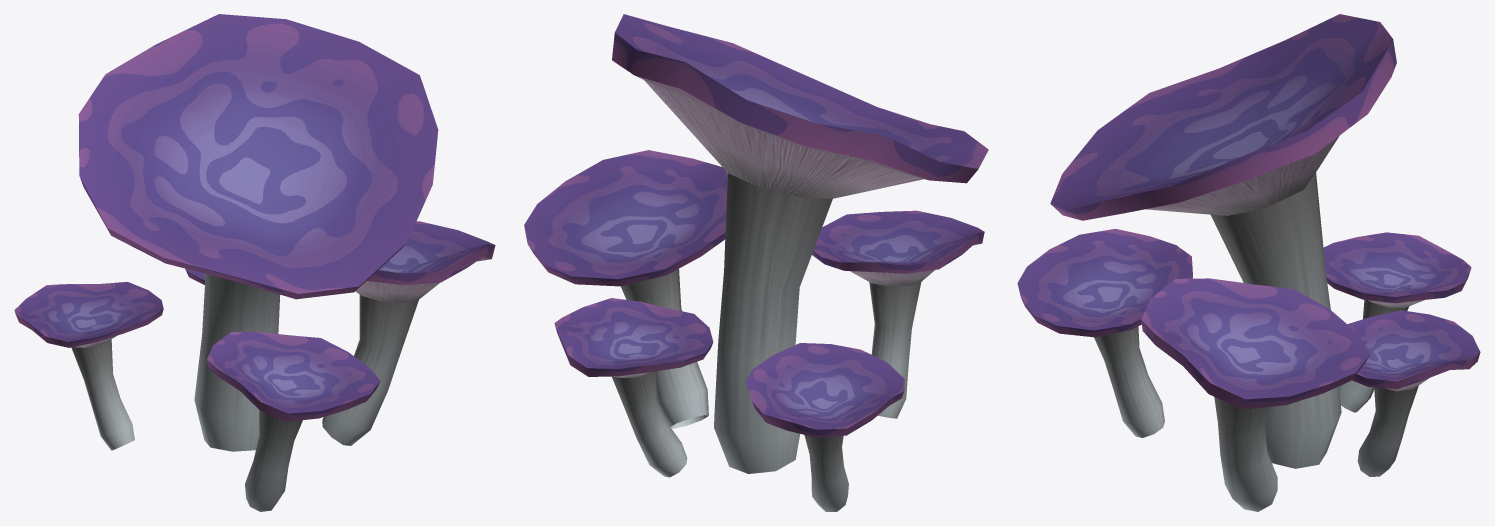
File: VEG0110014.fbx
The picture shows the model from 3 angles, left to right: view 1: azimuth 30°, elevation 25°; view 2: azimuth 150°, elevation 25°; view 3: azimuth 270°, elevation 25°; orthographic projection. The views are drawn at different scales.
Visible parts, largest first — view 1: smVEG0110014; view 2: smVEG0110014; view 3: smVEG0110014.
Part boxes in pixels (x1,y1,x2,y2): smVEG0110014: (14,14,495,511); smVEG0110014: (524,14,988,511); smVEG0110014: (1017,14,1480,511).
Size of the model in its own units: 67.67 by 65.6 by 64.85.
1 material, 1 textured.
